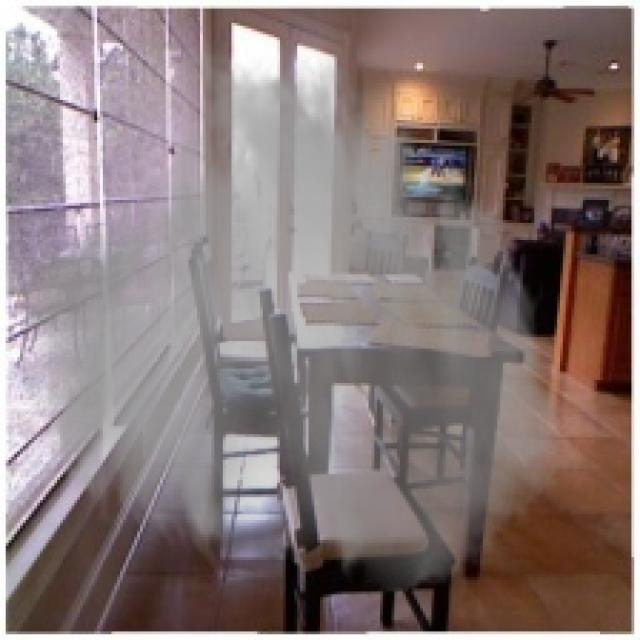Smoke: (14, 37, 566, 597)
